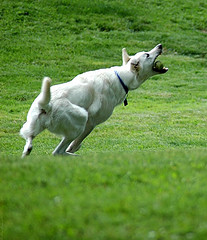tennis ball: (154, 59, 165, 69)
